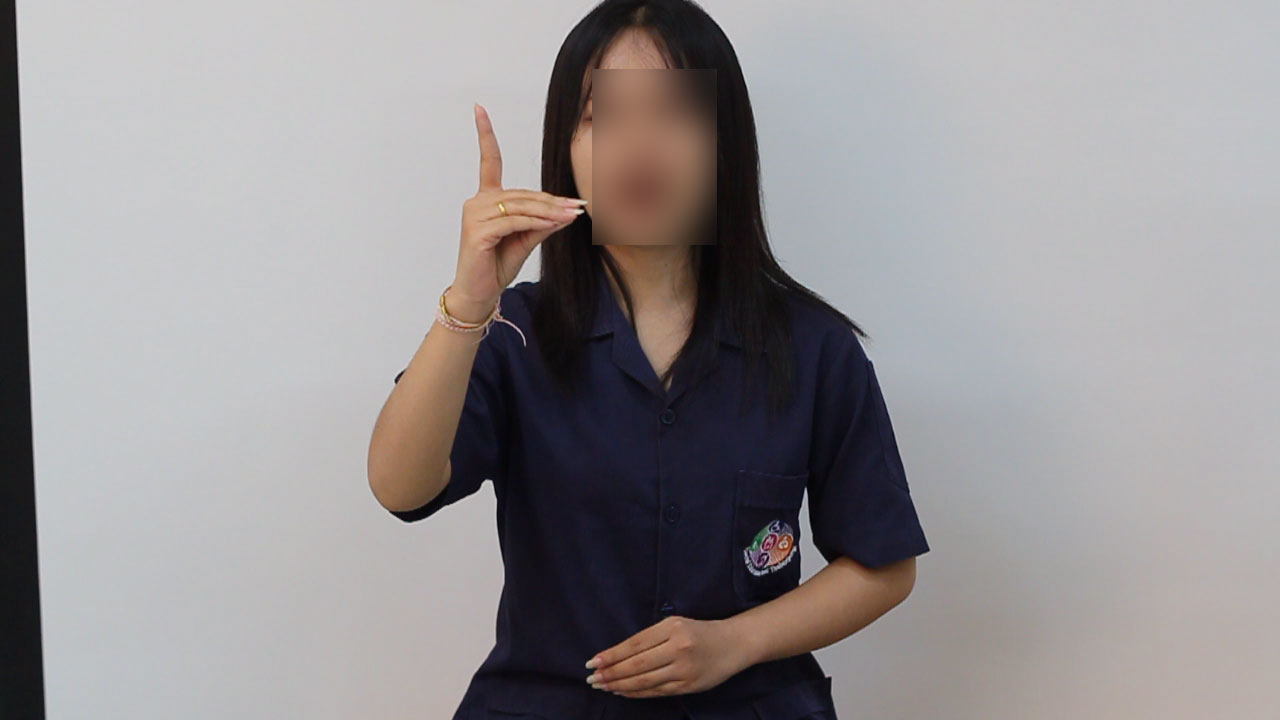dor: (436, 97, 594, 310)
